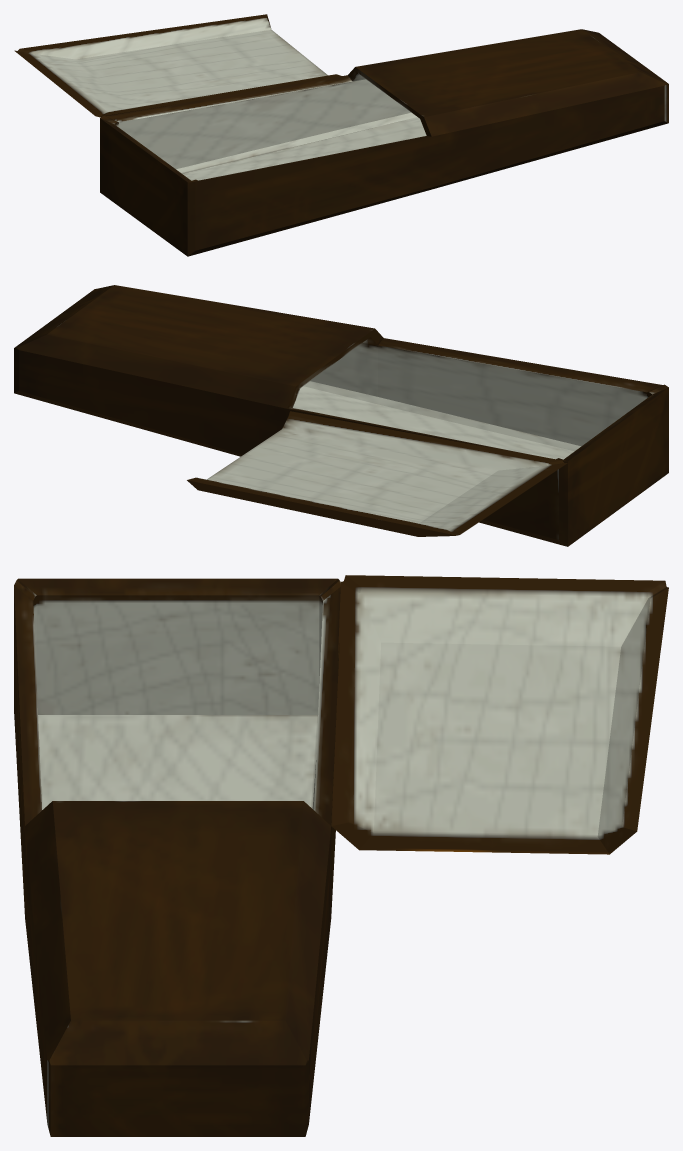
Rendered from Гроб.fbx.
The picture shows the model from 3 angles, top to bottom: view 1: azimuth 30°, elevation 25°; view 2: azimuth 150°, elevation 25°; view 3: azimuth 270°, elevation 25°; orthographic projection. The views are drawn at different scales.
Parts seen in each view (by area): view 1: гроб, гроб.001; view 2: гроб, гроб.001; view 3: гроб, гроб.001.
Part boxes in pixels (x1,y1,x2,y2): гроб: [100, 29, 668, 256]; гроб.001: [14, 14, 341, 117]; гроб: [14, 285, 668, 546]; гроб.001: [187, 411, 567, 536]; гроб: [14, 578, 340, 1136]; гроб.001: [331, 575, 668, 854].
Size of the model in its own units: 677 by 99.03 by 428.
1 material, 1 textured.
